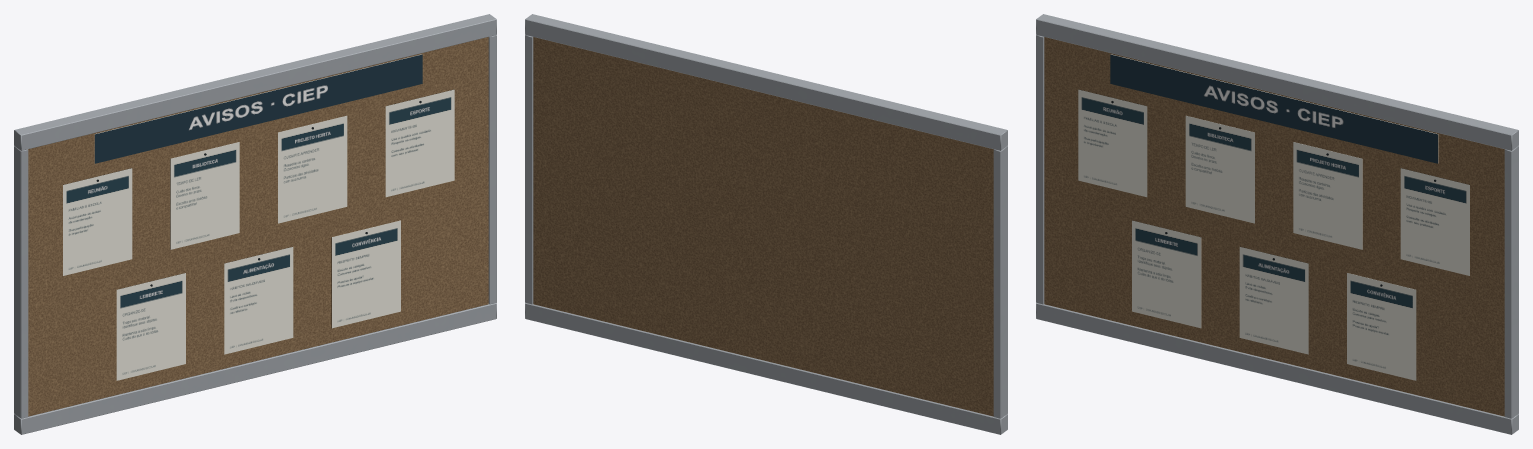
The model's file is mural_avisos_realista.glb.
3 renders of one model, left to right at view 1: azimuth 30°, elevation 25°; view 2: azimuth 150°, elevation 25°; view 3: azimuth 330°, elevation 25°, orthographic.
Visible parts, largest first — view 1: Mural_Avisos_PBR; view 2: Mural_Avisos_PBR; view 3: Mural_Avisos_PBR.
Boxes of the visible parts, <box> form: Mural_Avisos_PBR: <box>14,14,496,434</box>; Mural_Avisos_PBR: <box>525,14,1007,434</box>; Mural_Avisos_PBR: <box>1036,14,1518,434</box>.
Bounding box in the file's own units: 1.86 × 1.12 × 0.051.
1 material, 1 textured.
